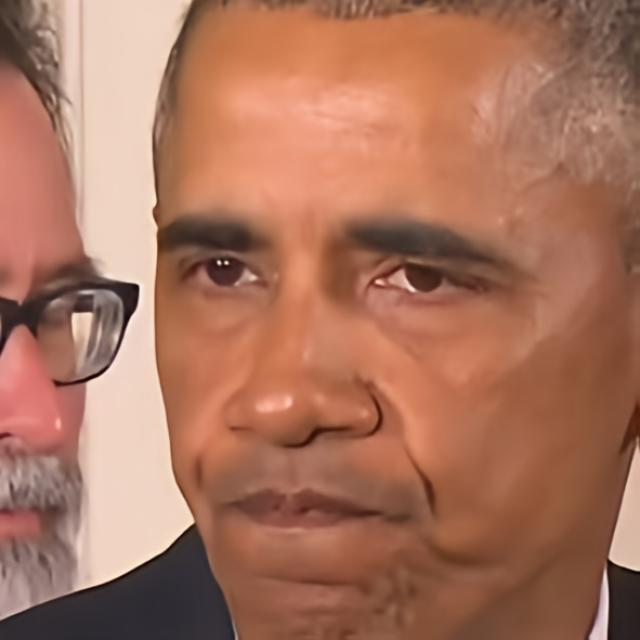anger: (151, 51, 608, 640)
